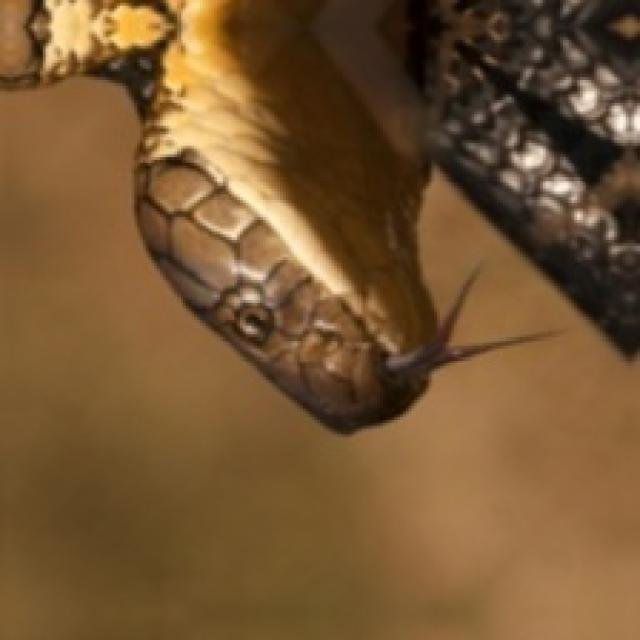king cobra: (0, 0, 637, 429), (0, 0, 511, 429)
